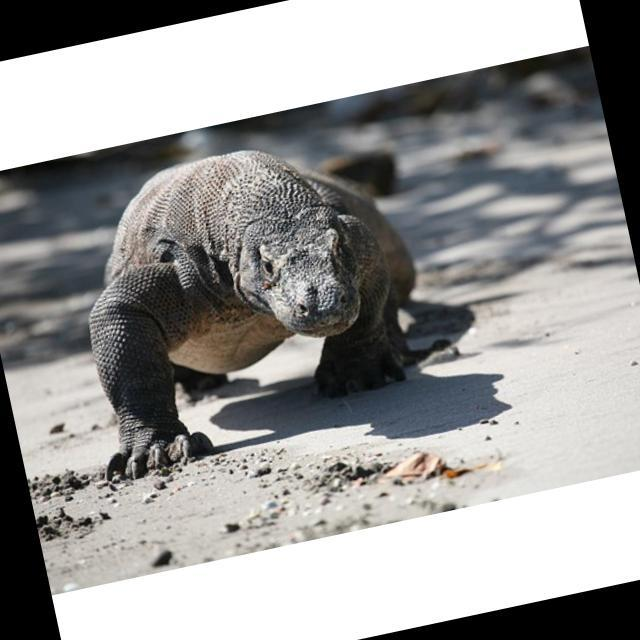KomodoDragon: (43, 118, 446, 492)
